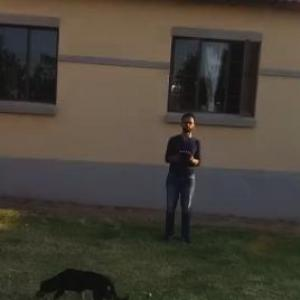follow: (156, 101, 202, 250)
null: (31, 264, 134, 299)
